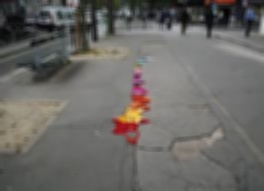pothole: (168, 124, 236, 162)
